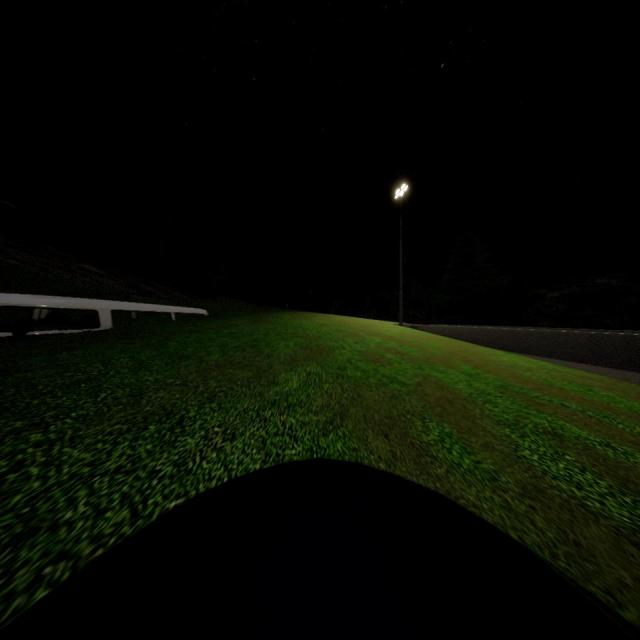Vehicle: (0, 458, 640, 640), (0, 294, 210, 362)
